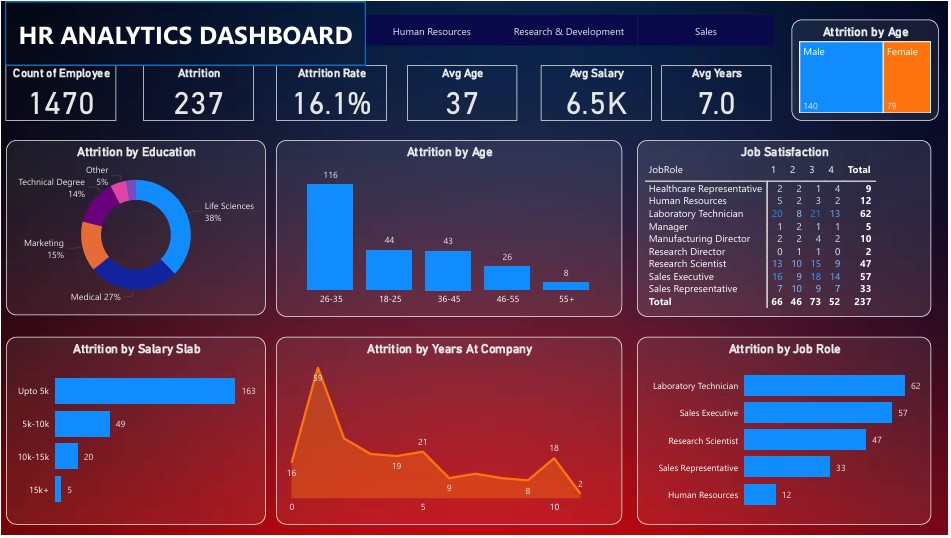

What the dashboard file says about the page in this screenshot:
{"tool":"powerbi","page":{"name":"Hr_Analytics","canvas":[1280,720],"ordinal":0},"visuals":[{"type":"card","title":"Count of Employee","fields":{"Values":["CountNonNull(HR_Analytics.EmpID)"]},"box":[5,85.7,149.5,75.6],"z":0},{"type":"card","title":"Attrition","fields":{"Values":["Sum(HR_Analytics.Attrition_Count)"]},"box":[191.5,85.7,149.5,75.6],"z":1000},{"type":"card","title":"Attrition Rate","fields":{"Values":["HR_Analytics.AttritionRate"]},"box":[371.2,85.7,149.5,75.6],"z":2000},{"type":"card","title":"Avg Age","fields":{"Values":["Avg(HR_Analytics.Age)"]},"box":[547.6,85.7,149.5,75.6],"z":3000},{"type":"card","title":"Avg Salary","fields":{"Values":["Avg(HR_Analytics.MonthlyIncome)"]},"box":[729,85.7,149.5,75.6],"z":4000},{"type":"card","title":"Avg Years","fields":{"Values":["Avg(HR_Analytics.YearsAtCompany)"]},"box":[892,85.7,149.5,75.6],"z":5000},{"type":"donutChart","title":"Attrition by Education","fields":{"Y":["Sum(HR_Analytics.Attrition_Count)"],"Category":["HR_Analytics.EducationField"]},"box":[5.7,187.1,351.4,237.1],"z":6000},{"type":"columnChart","title":"Attrition by Age","fields":{"Y":["Sum(HR_Analytics.Attrition_Count)"],"Category":["HR_Analytics.AgeGroup"]},"box":[371.4,187.1,467.1,238.6],"z":7000},{"type":"pivotTable","title":"Job Satisfaction","fields":{"Rows":["HR_Analytics.JobRole"],"Columns":["HR_Analytics.JobSatisfaction"],"Values":["Sum(HR_Analytics.Attrition_Count)"]},"box":[858.6,187.1,398.6,238.6],"z":8000},{"type":"barChart","title":"Attrition by Salary Slab","fields":{"Category":["HR_Analytics.SalarySlab"],"Y":["Sum(HR_Analytics.Attrition_Count)"]},"box":[5.7,452.9,351.4,254.3],"z":9000},{"type":"barChart","title":"Attrition by Job Role","fields":{"Category":["HR_Analytics.JobRole"],"Y":["Sum(HR_Analytics.Attrition_Count)"]},"box":[858.6,452.9,398.6,254.3],"z":10000},{"type":"areaChart","title":"Attrition by Years At Company","fields":{"Category":["HR_Analytics.YearsAtCompany"],"Y":["Sum(HR_Analytics.Attrition_Count)"]},"box":[371.4,452.9,467.1,254.3],"z":11000},{"type":"treemap","title":"Attrition by Age","fields":{"Group":["HR_Analytics.Gender"],"Values":["Sum(HR_Analytics.Attrition_Count)"]},"box":[1068.3,23.5,198.2,137.7],"z":12000},{"type":"slicer","fields":{"Values":["HR_Analytics.Department"]},"box":[463.6,11.8,604.7,53.8],"z":13000},{"type":"shape","box":[5,0,487.1,85.7],"z":13001}]}

Visuals, with their boxes in screenshot pixels (x1, y1, x2, y2), scaled from the page's 1280x720 canvas onto the 951x538 screenshot:
"Count of Employee" card: pyautogui.locateOnScreen(4, 64, 115, 121)
"Attrition" card: pyautogui.locateOnScreen(142, 64, 253, 121)
"Attrition Rate" card: pyautogui.locateOnScreen(276, 64, 387, 121)
"Avg Age" card: pyautogui.locateOnScreen(407, 64, 518, 121)
"Avg Salary" card: pyautogui.locateOnScreen(542, 64, 653, 121)
"Avg Years" card: pyautogui.locateOnScreen(663, 64, 774, 121)
"Attrition by Education" donutChart: pyautogui.locateOnScreen(4, 140, 265, 317)
"Attrition by Age" columnChart: pyautogui.locateOnScreen(276, 140, 623, 318)
"Job Satisfaction" pivotTable: pyautogui.locateOnScreen(638, 140, 934, 318)
"Attrition by Salary Slab" barChart: pyautogui.locateOnScreen(4, 338, 265, 528)
"Attrition by Job Role" barChart: pyautogui.locateOnScreen(638, 338, 934, 528)
"Attrition by Years At Company" areaChart: pyautogui.locateOnScreen(276, 338, 623, 528)
"Attrition by Age" treemap: pyautogui.locateOnScreen(794, 18, 941, 120)
slicer - HR_Analytics.Department: pyautogui.locateOnScreen(344, 9, 794, 49)
shape: pyautogui.locateOnScreen(4, 0, 366, 64)
